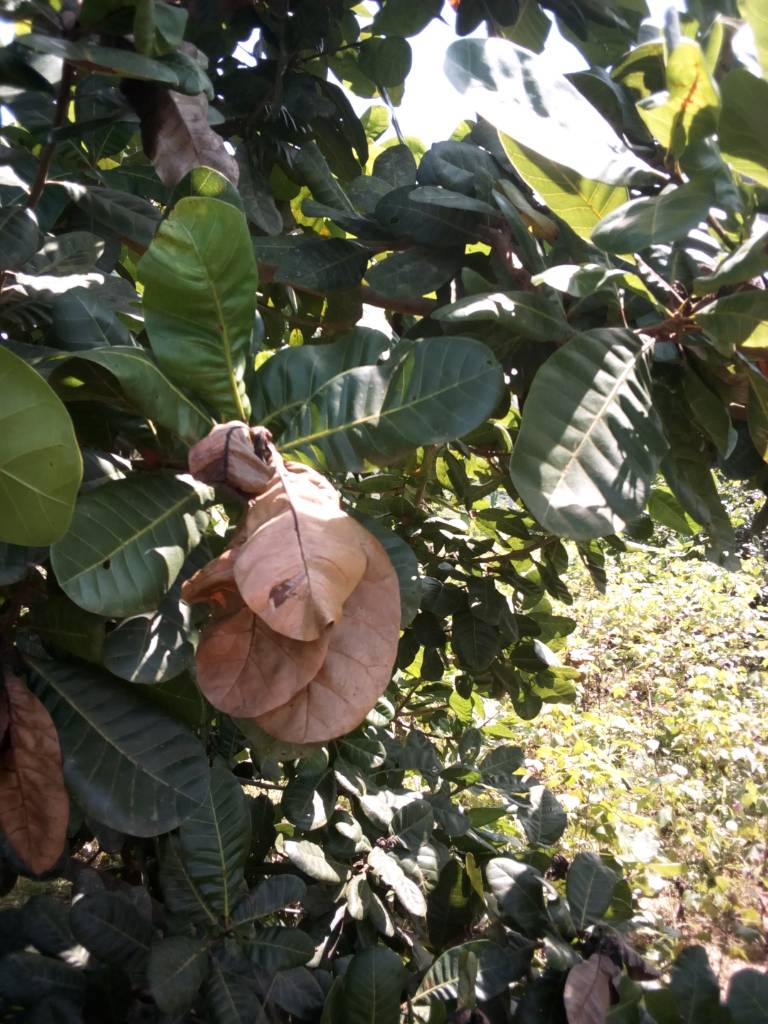Dessèchement des bourgeons: (190, 422, 369, 635)
